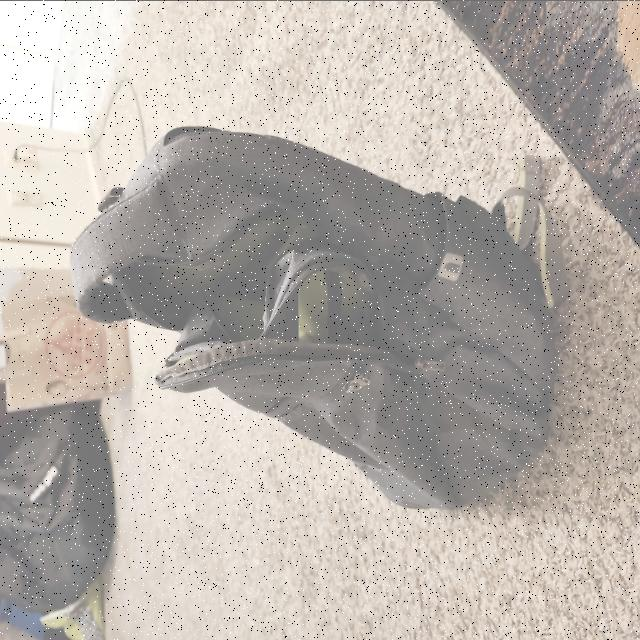bag: (74, 140, 554, 504)
